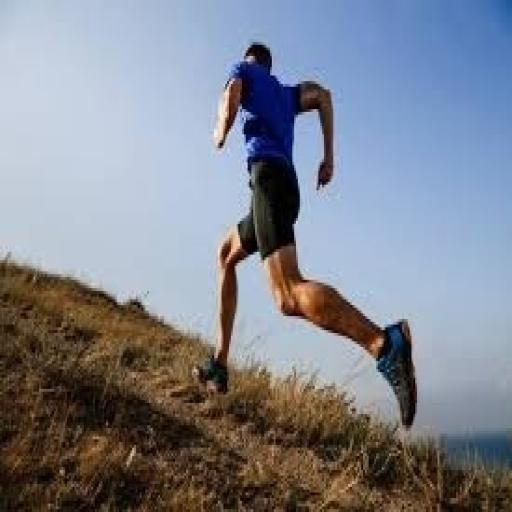running: (194, 36, 420, 436)
